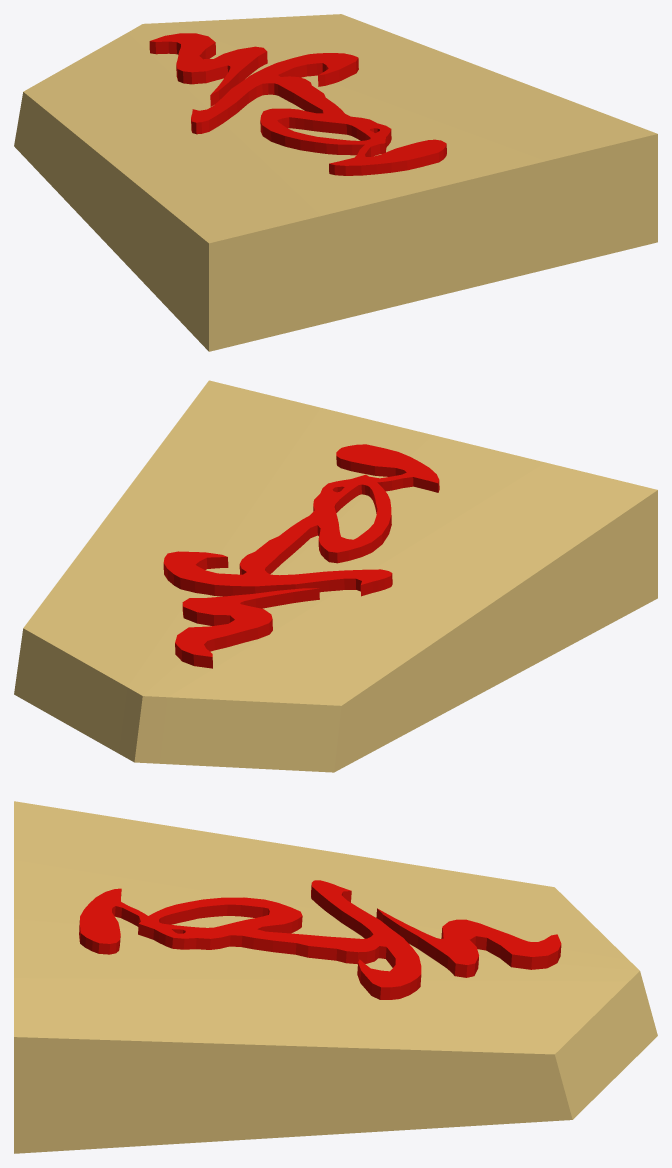
File: LancierDor.fbx
3 renders of one model, top to bottom at view 1: azimuth 30°, elevation 25°; view 2: azimuth 150°, elevation 25°; view 3: azimuth 270°, elevation 25°, orthographic. The views are drawn at different scales.
Parts seen in each view (by area): view 1: LancierDor; view 2: LancierDor; view 3: LancierDor.
Part boxes in pixels (<box>): LancierDor: <box>14,14,657,351</box>; LancierDor: <box>14,380,657,772</box>; LancierDor: <box>14,801,657,1153</box>.
Size of the model in its own units: 63.4 by 73.15 by 15.28.
